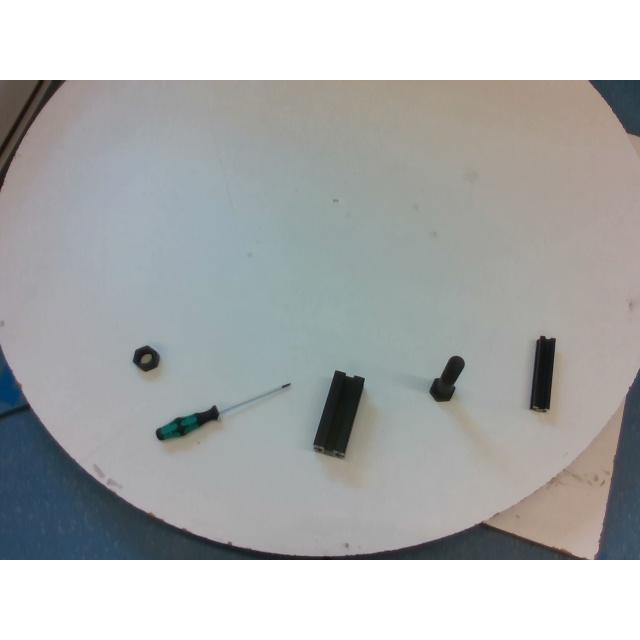F20_20_B: (530, 336, 554, 412)
M20: (132, 345, 160, 371)
M20_100: (428, 355, 464, 401)
S40_40_B: (314, 370, 364, 458)
Screwdriver: (154, 382, 290, 440)
